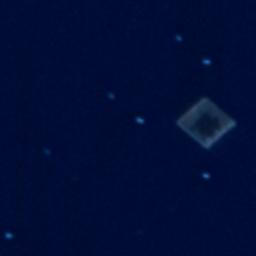square_cover: (174, 93, 236, 149)
